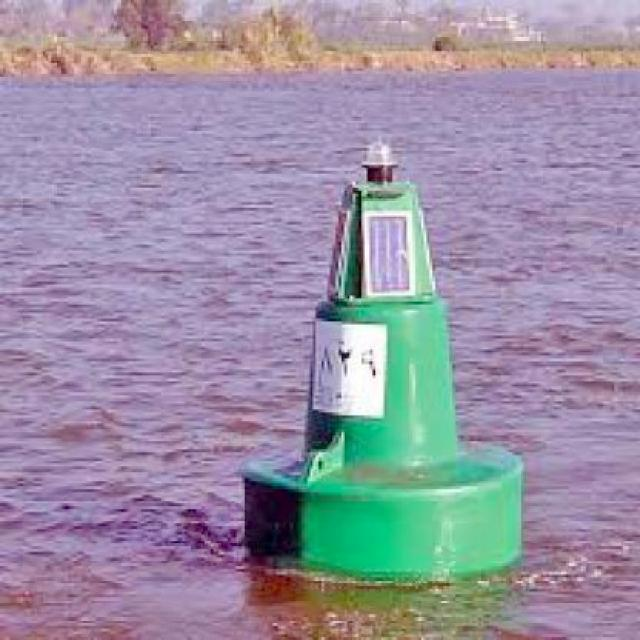no-oil: (8, 92, 640, 440)
